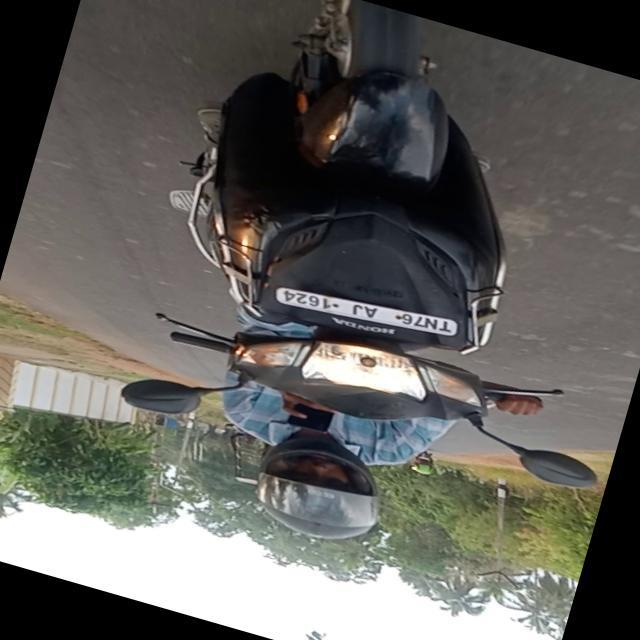USING_MOBILE: (218, 386, 404, 550)
